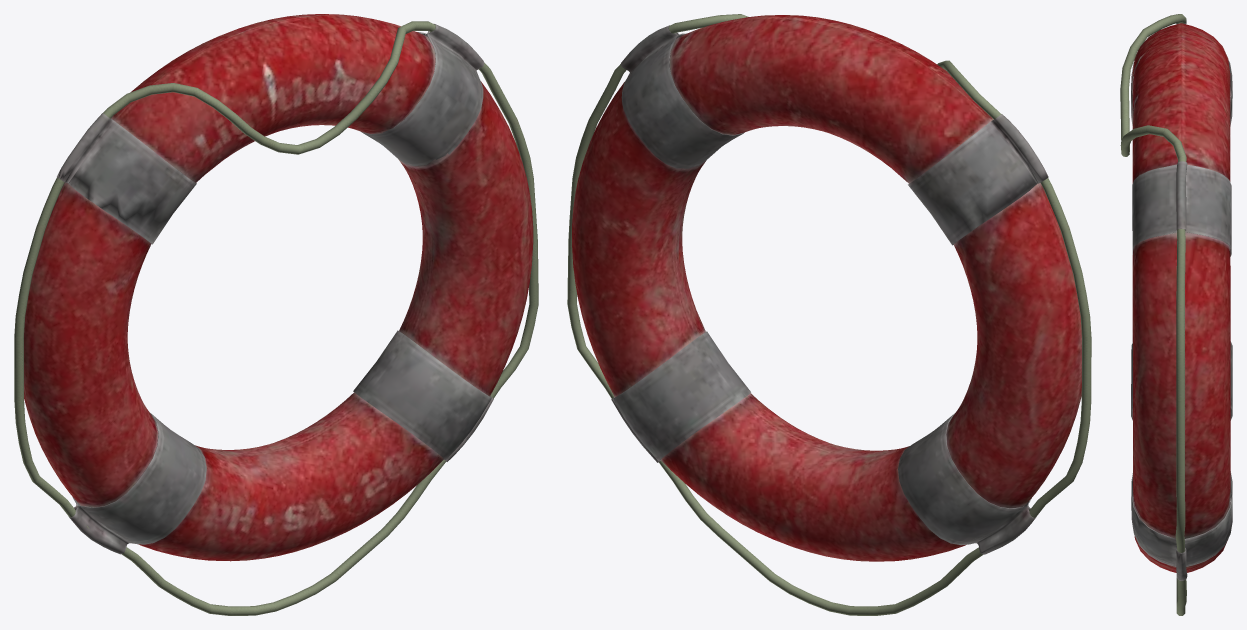
File: lifebuoy.glb
The picture shows the model from 3 angles, left to right: view 1: azimuth 30°, elevation 25°; view 2: azimuth 150°, elevation 25°; view 3: azimuth 270°, elevation 25°; orthographic projection. The views are drawn at different scales.
Parts seen in each view (by area): view 1: lifebuoy; view 2: lifebuoy; view 3: lifebuoy.
Part boxes in pixels (<box>): lifebuoy: <box>14,14,538,615</box>; lifebuoy: <box>567,14,1091,615</box>; lifebuoy: <box>1120,14,1232,615</box>.
Bounding box in the file's own units: 0.783 × 0.8412 × 0.1548.
1 material, 1 textured.
